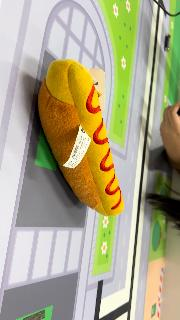hotdog: (37, 59, 125, 218)
